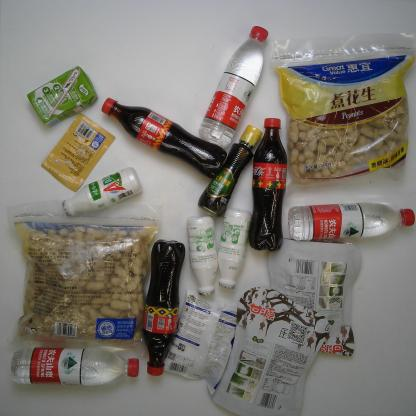Dried Food: (5, 199, 164, 358), (270, 31, 416, 190)
Dried Fruit: (210, 286, 331, 416), (266, 235, 363, 358)
Drink: (100, 96, 229, 180), (195, 25, 272, 149), (142, 239, 186, 377), (9, 346, 140, 388), (248, 117, 288, 252), (288, 202, 415, 242)
Milk: (26, 64, 99, 128), (60, 166, 142, 220), (218, 208, 252, 290), (186, 214, 218, 296)
Seasoner: (162, 285, 239, 396), (196, 123, 262, 217), (40, 112, 116, 192)
